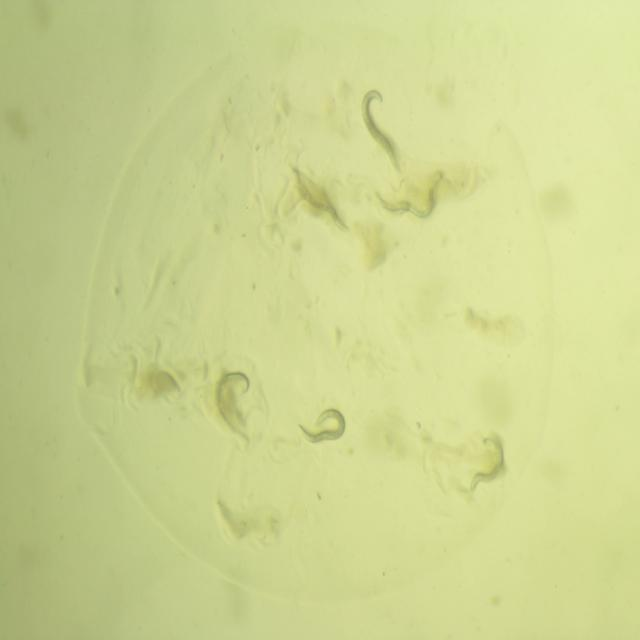worm: (352, 68, 411, 186), (284, 153, 356, 244), (369, 161, 453, 236), (207, 352, 268, 454), (460, 416, 520, 501), (292, 393, 357, 457)
